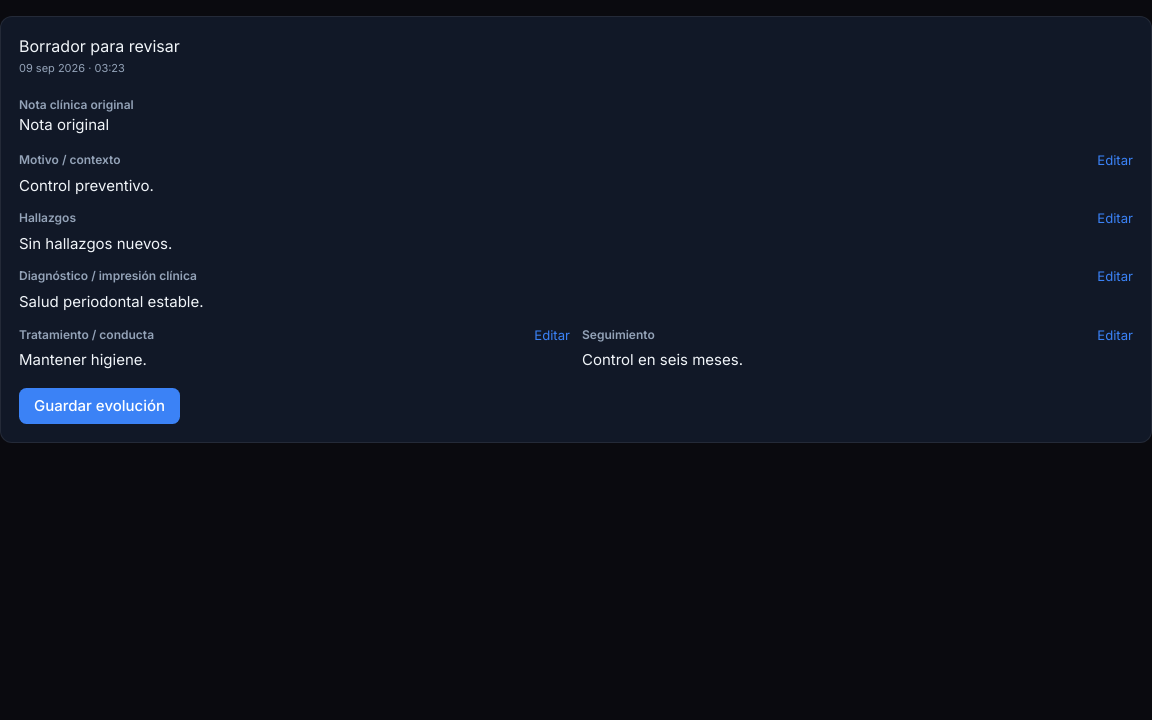
EvolutionReviewArtifact › blocks saving until the active field edit is applied
Expected: the button "Guardar evolución" is enabled, [19,388,180,424]
Step 1. Click the button with aria-label "Editar Hallazgos" → click(1115, 218), box [1097,209,1133,228]
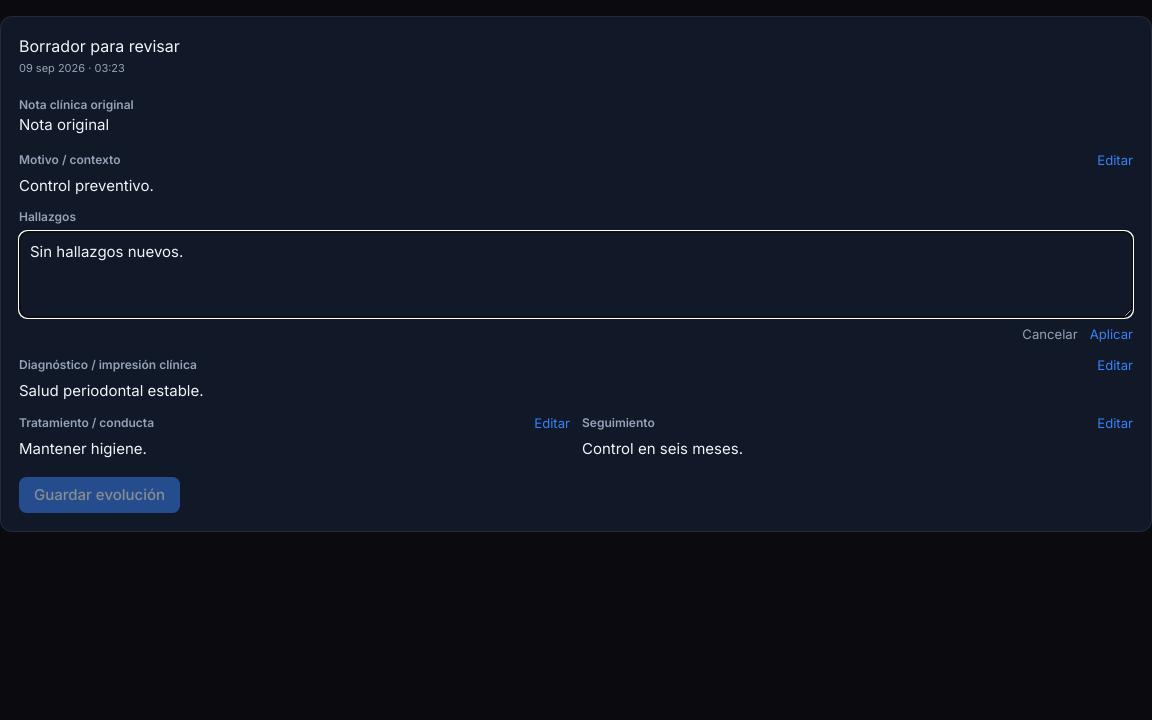
Result: the button "Guardar evolución" is disabled at [19,477,180,513]
Step 2. Click the button "Aplicar" → click(1111, 335), box [1090,325,1133,344]
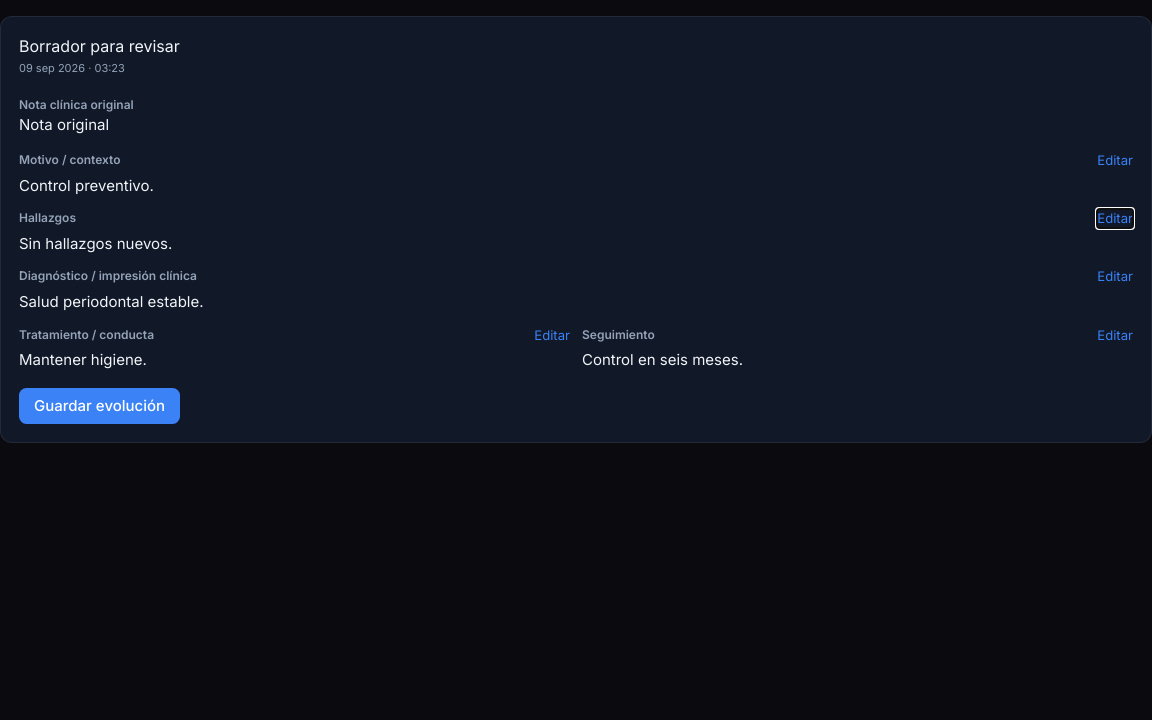
Result: the button "Guardar evolución" is enabled at [19,388,180,424]
